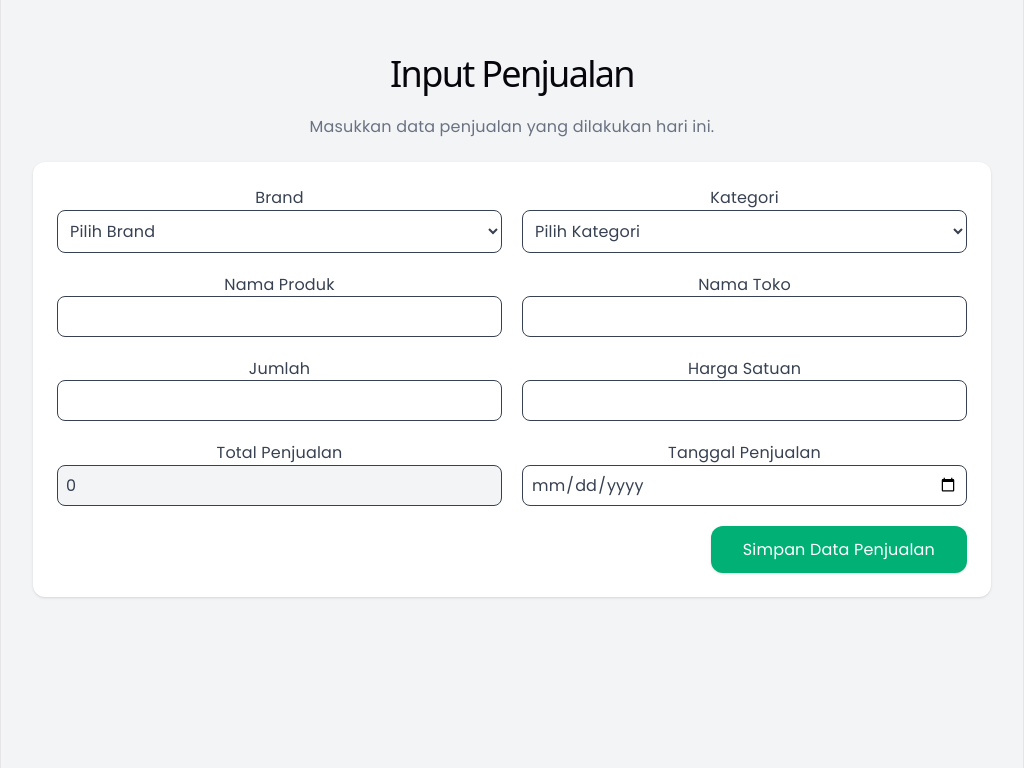
Test: White Box Testing - Input Penjualan HEBEPKU › WB-IP08: mengosongkan formulir setelah penyimpanan berhasil
Select "Brand Alpha" in the dropdown below "Brand": (280, 231) x1=57 y1=210 x2=502 y2=253
Select "Elektronik" in the dropdown below "Kategori": (744, 231) x1=522 y1=210 x2=967 y2=253
In the field below "Nama Produk": (280, 316) x1=57 y1=296 x2=502 y2=337, type "Produk Pengujian"
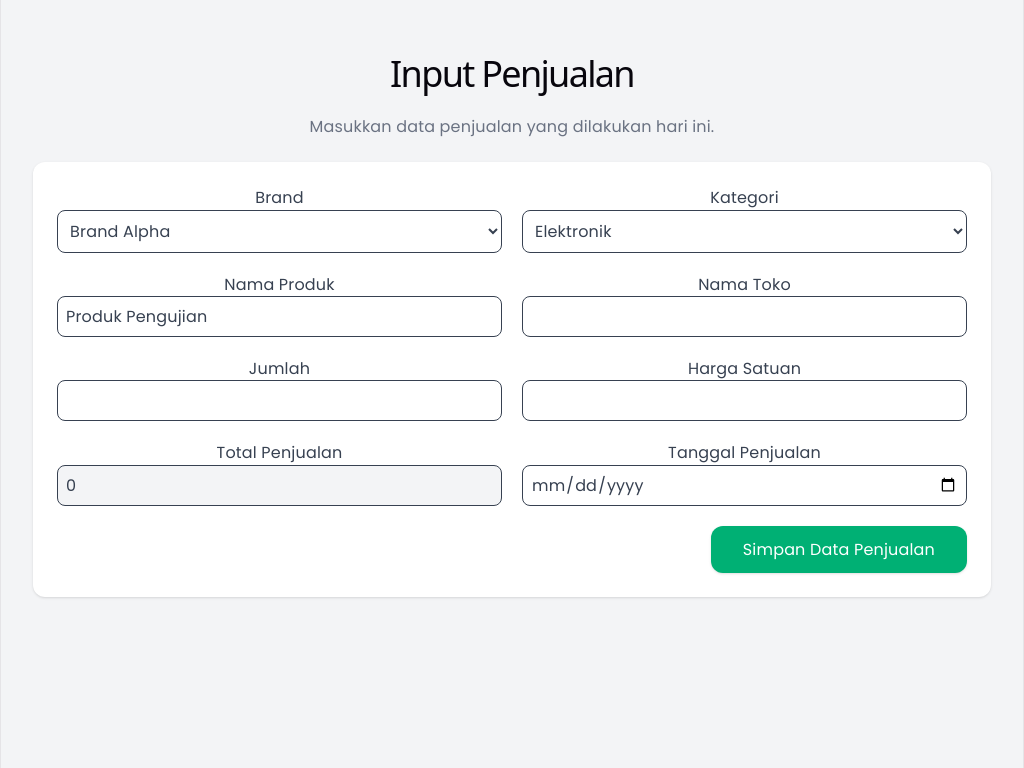
In the field below "Nama Toko": (744, 316) x1=522 y1=296 x2=967 y2=337, type "Toko Pengujian"
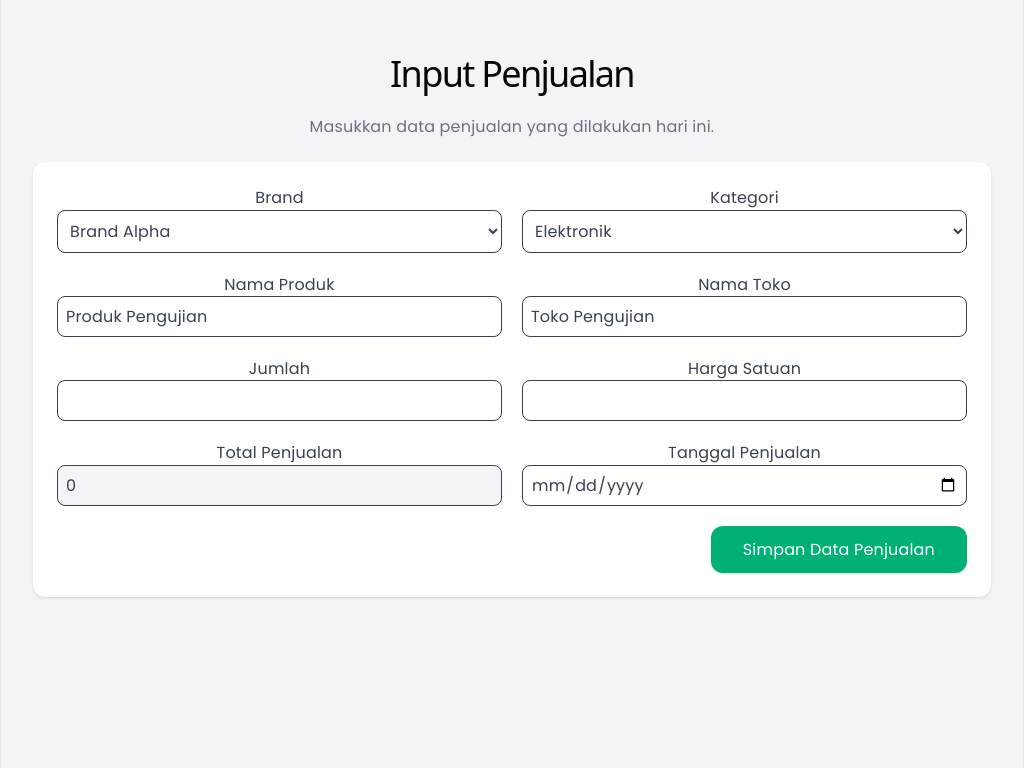
In the number field below "Jumlah": (280, 401) x1=57 y1=380 x2=502 y2=421, type "3"
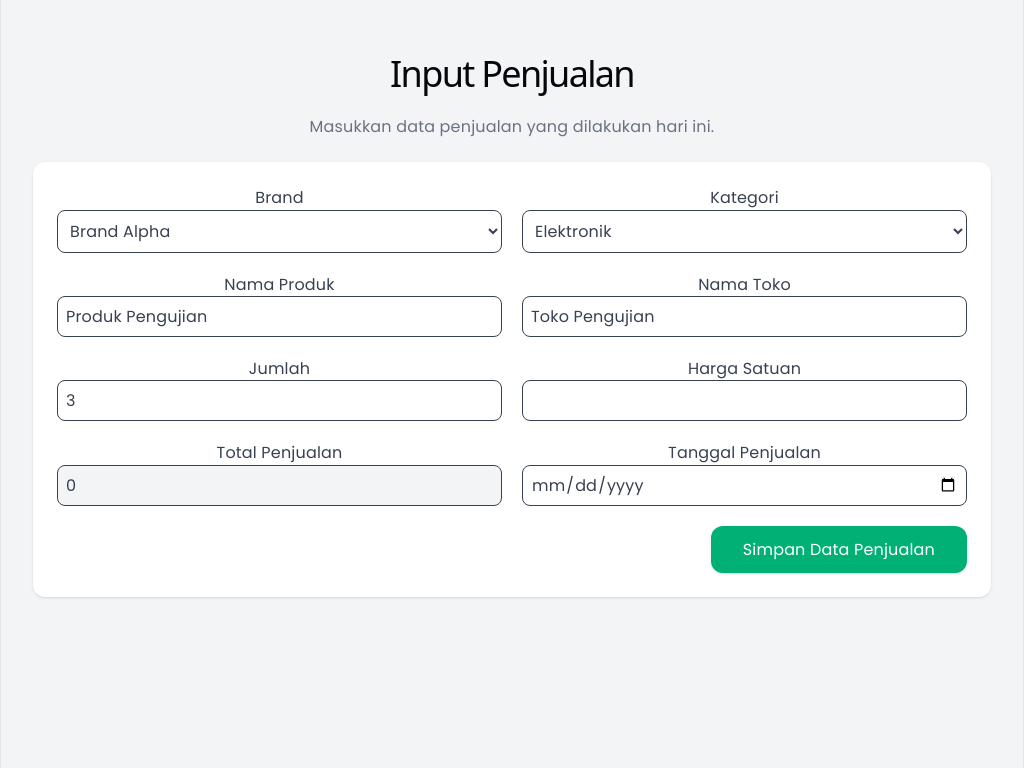
In the number field below "Harga Satuan": (744, 401) x1=522 y1=380 x2=967 y2=421, type "50000"
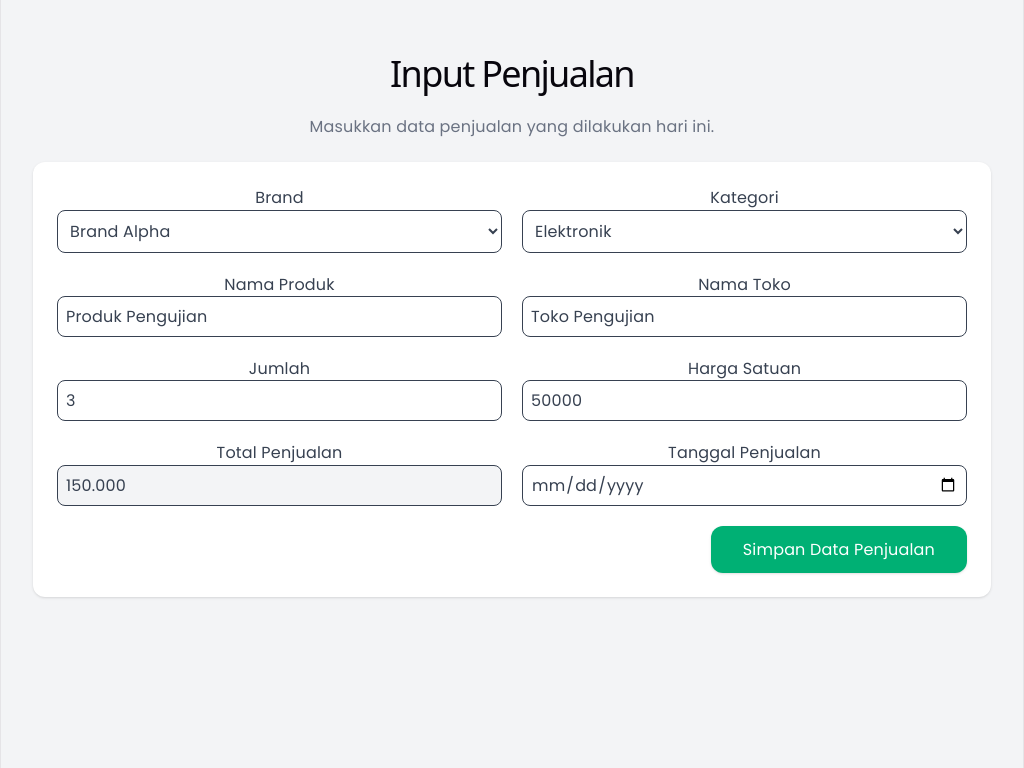
In the date field: (744, 485) x1=522 y1=465 x2=967 y2=506, type "2026-10-25"
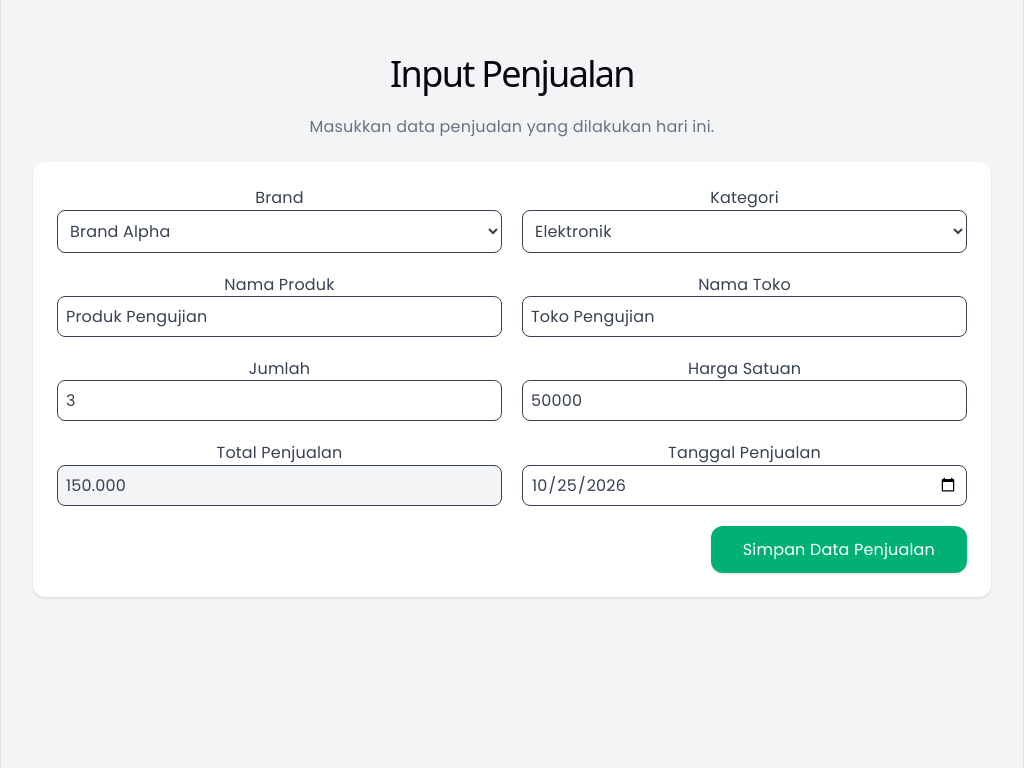
Click the button "Simpan Data Penjualan": (839, 549) x1=711 y1=526 x2=967 y2=573
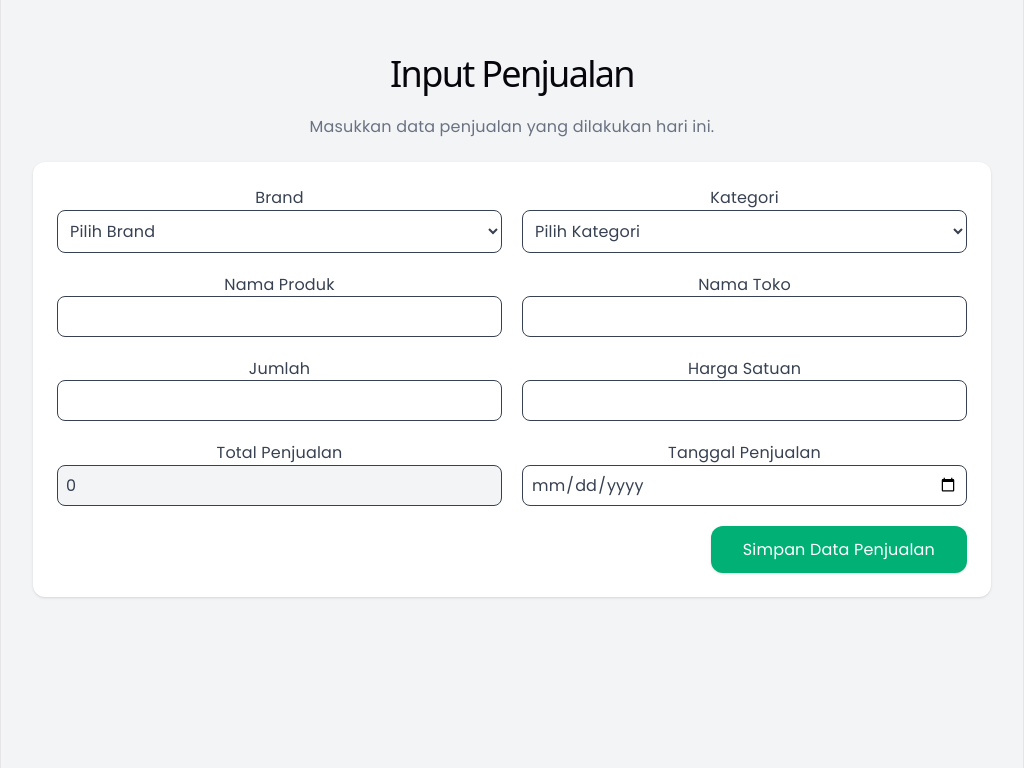
Result: the number field below "Harga Satuan" is not empty at x1=522 y1=380 x2=967 y2=421
Result: the date field is empty at x1=522 y1=465 x2=967 y2=506
